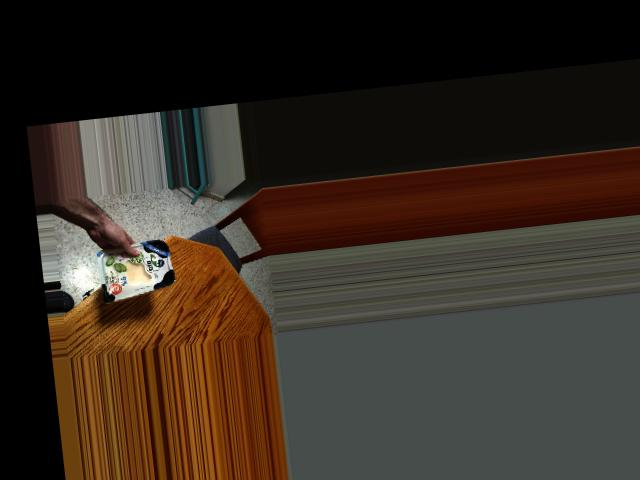cheese: (101, 238, 173, 298)
